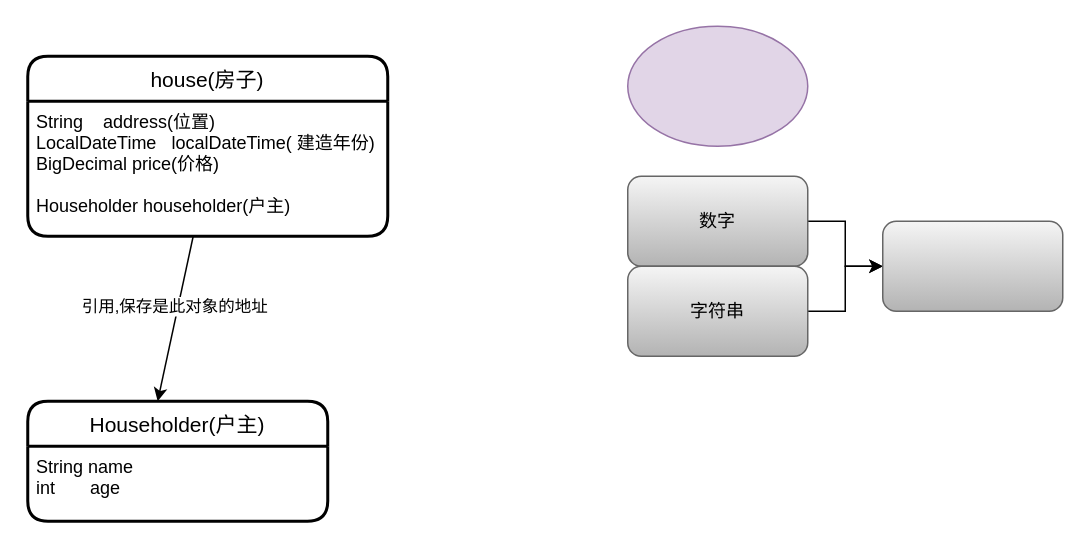
Image size: 1089x549. Some labels were removed from this diagram. The centre of each missing label's shape, as x and y in pixels:
"任何javaBean都是由数字和字符串组成的" goes at (x=717, y=85).
"时间" goes at (x=972, y=265).
